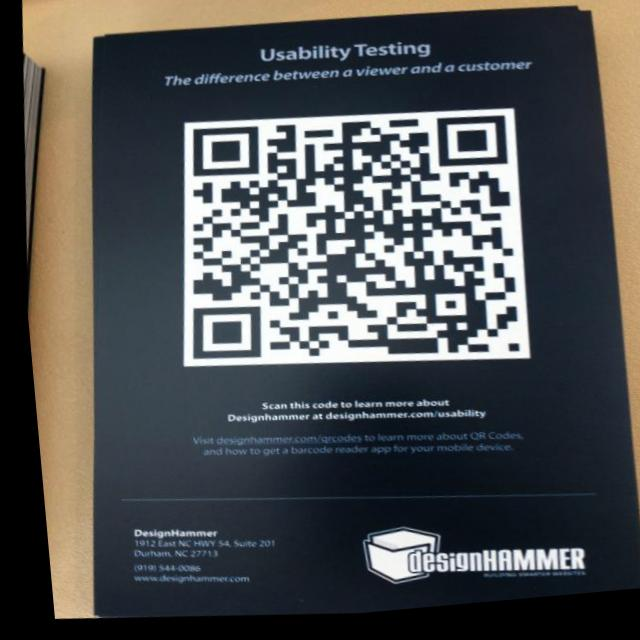qrcode: (171, 102, 530, 384)
